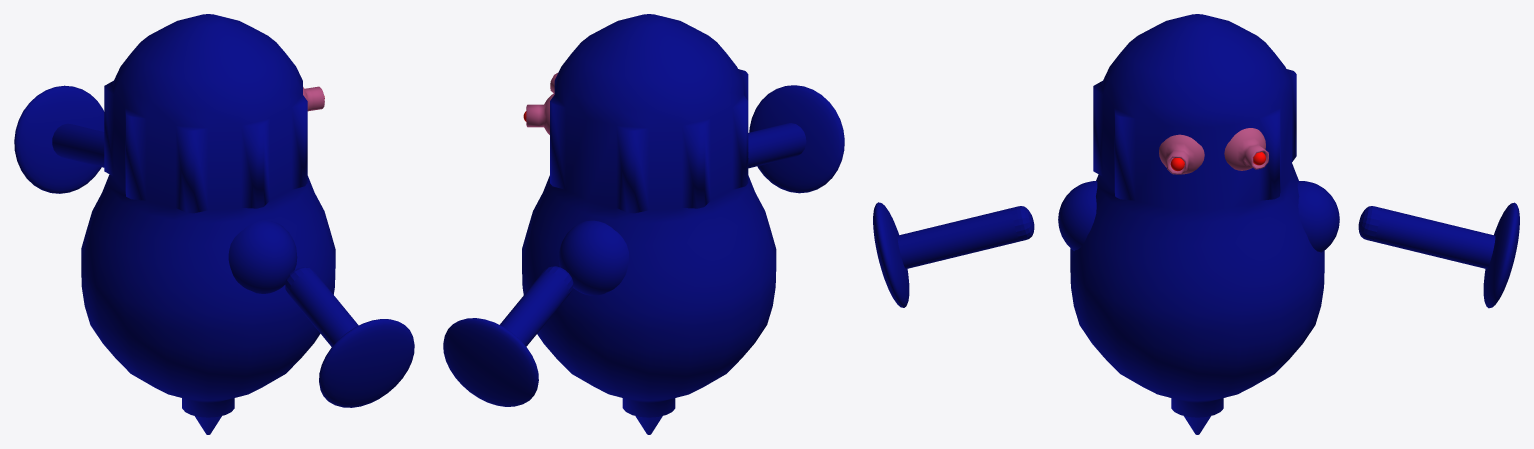
The model's file is ProtoRobot3.fbx.
3 views of the same model, side by side, from view 1: azimuth 30°, elevation 25°; view 2: azimuth 150°, elevation 25°; view 3: azimuth 270°, elevation 25° (orthographic).
Parts seen in each view (by area): view 1: Cylinder001, Cylinder002, Cylinder003, Sphere001; view 2: Cylinder001, Cylinder003, Cylinder002, Sphere002; view 3: Cylinder001, Cylinder003, Cylinder002, Sphere002, Sphere001.
Part boxes in pixels (bbox=[...]): Cylinder001: bbox=[81, 14, 335, 434]; Cylinder002: bbox=[285, 267, 414, 407]; Cylinder003: bbox=[14, 85, 104, 193]; Sphere001: bbox=[303, 86, 324, 111]; Cylinder001: bbox=[522, 14, 776, 434]; Cylinder003: bbox=[443, 266, 573, 406]; Cylinder002: bbox=[748, 85, 844, 193]; Sphere002: bbox=[526, 93, 554, 134]; Cylinder001: bbox=[1058, 14, 1339, 434]; Cylinder003: bbox=[1358, 202, 1519, 308]; Cylinder002: bbox=[873, 202, 1034, 307]; Sphere002: bbox=[1224, 128, 1268, 170]; Sphere001: bbox=[1159, 134, 1204, 174].
Size of the model in its own units: 10.12 by 17.88 by 25.34.
